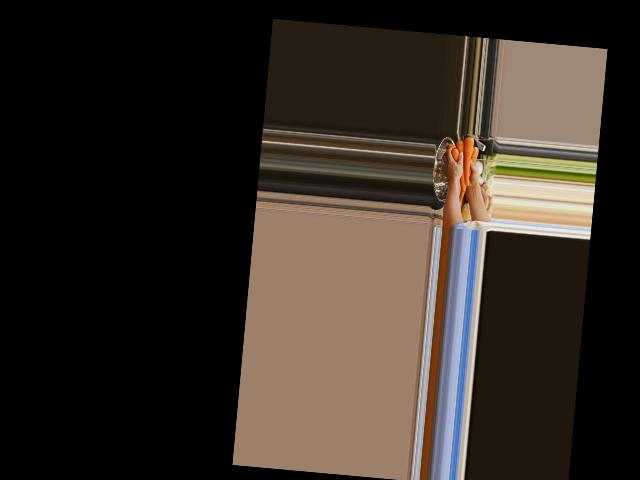carrot: (453, 139, 472, 194)
